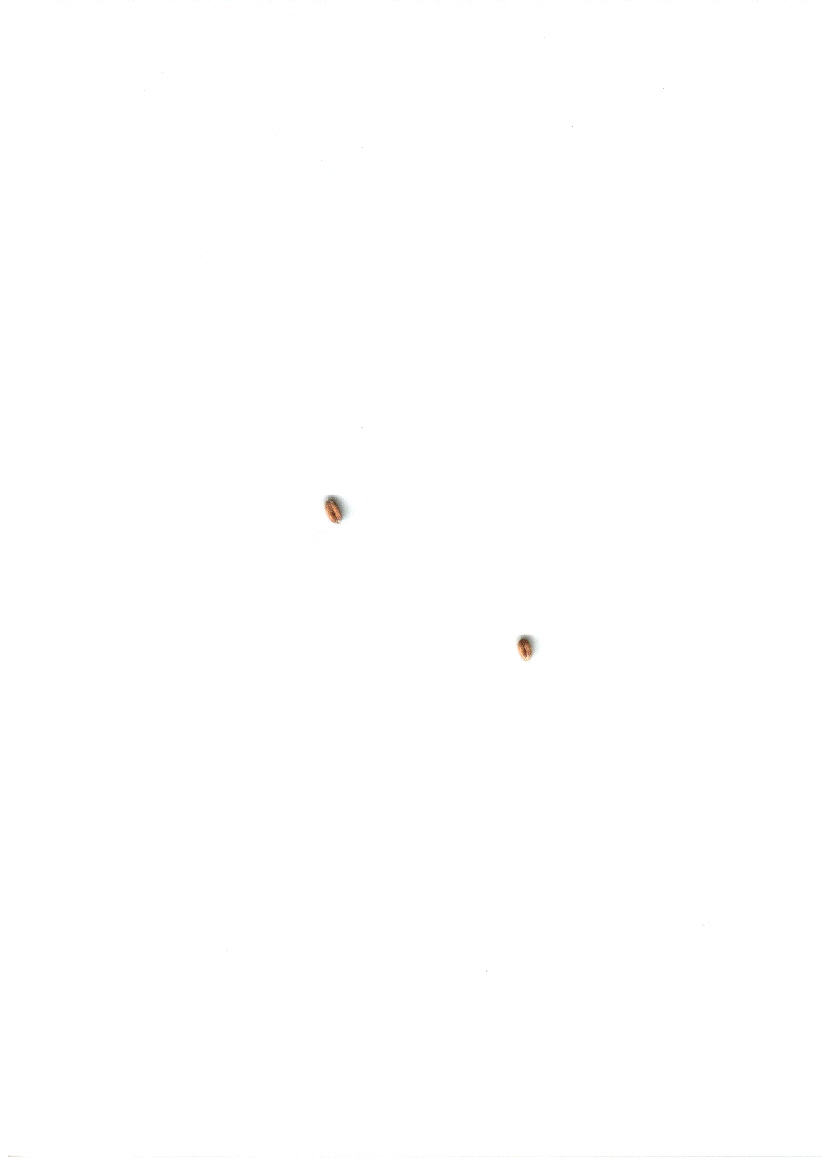grains: (308, 481, 354, 533), (501, 628, 545, 672)
